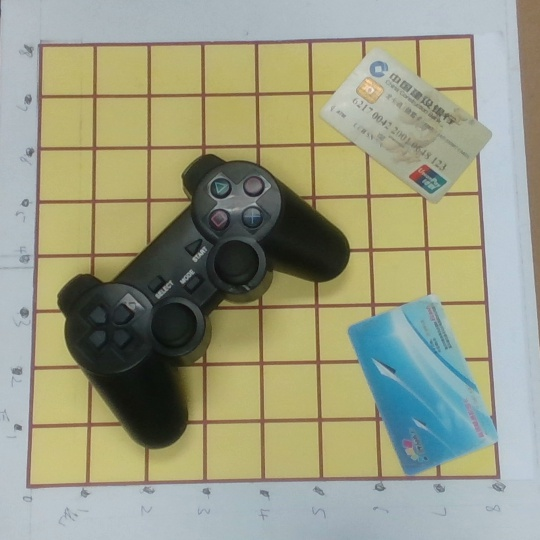card: (320, 44, 493, 205), (348, 292, 499, 475)
remote: (59, 152, 352, 452)
